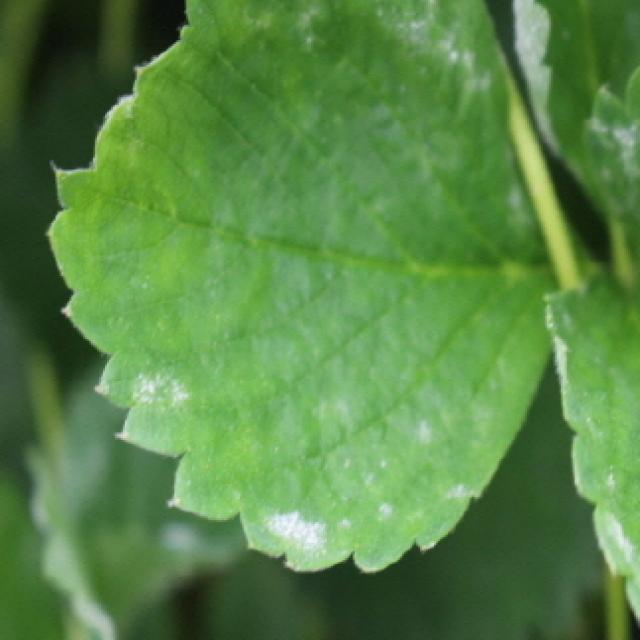Powdery Mildew Leaf: (43, 0, 589, 576), (542, 65, 640, 627), (510, 0, 640, 222)
